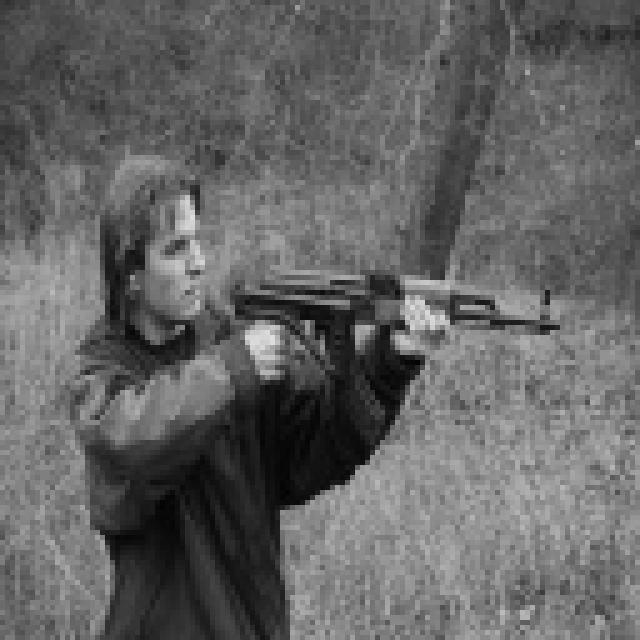Rifle: (222, 243, 585, 419)
